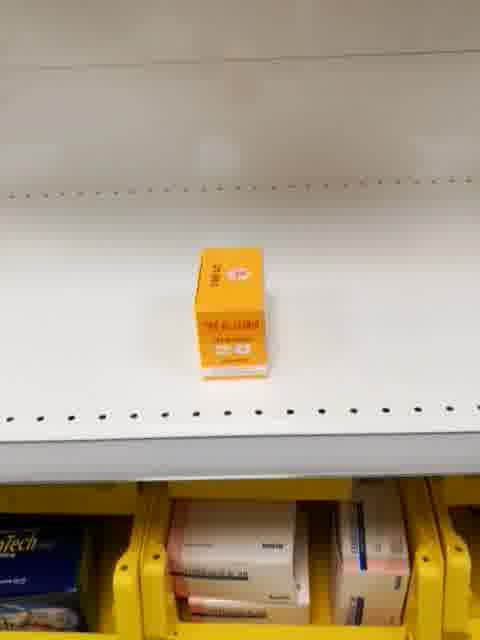jasminetea: (192, 242, 272, 382)
